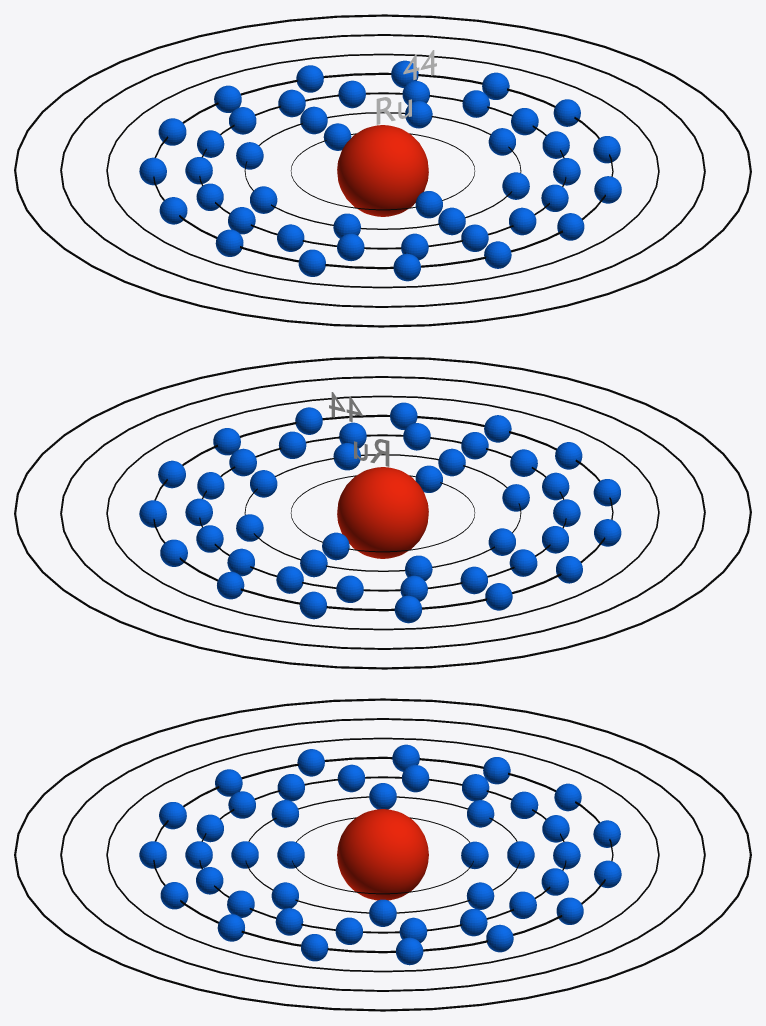
3 views of the same model, one above another, from view 1: azimuth 30°, elevation 25°; view 2: azimuth 150°, elevation 25°; view 3: azimuth 270°, elevation 25° (orthographic).
Parts seen in each view (by area): view 1: Ru3, Ru4, Proton, n7, Ru2, n6, n5, n4, Ru1, n3, n2; view 2: Ru3, Ru4, Proton, n7, Ru2, n6, n5, n4, Ru1, n3, n2; view 3: Ru3, Ru4, Proton, Ru2, n7, n6, n5, n4, Ru1, n3, n2, n1.
Boxes of the visible parts, x1,y1,x2,y2 form: Ru3: (185, 80, 580, 261); Ru4: (139, 60, 621, 281); Proton: (337, 125, 428, 216); n7: (14, 14, 751, 327); Ru2: (236, 101, 529, 238); n6: (60, 34, 705, 307); n5: (106, 53, 659, 288); n4: (153, 72, 613, 269); Ru1: (323, 123, 442, 218); n3: (199, 92, 566, 249); n2: (244, 112, 521, 229); Ru3: (185, 422, 580, 602); Ru4: (139, 402, 621, 623); Proton: (337, 467, 428, 558); n7: (14, 356, 751, 669); Ru2: (236, 443, 529, 580); n6: (60, 376, 705, 649); n5: (106, 395, 659, 630); n4: (153, 414, 613, 611); Ru1: (322, 465, 442, 560); n3: (199, 434, 566, 591); n2: (244, 454, 521, 571); Ru3: (185, 764, 580, 944); Ru4: (139, 744, 621, 965); Proton: (337, 809, 428, 900); Ru2: (231, 783, 534, 926); n7: (14, 698, 751, 1011); n6: (60, 718, 705, 991); n5: (106, 737, 659, 972); n4: (153, 756, 613, 953); Ru1: (277, 841, 488, 869); n3: (199, 776, 566, 933); n2: (245, 796, 520, 913); n1: (292, 817, 473, 894).
Size of the model in its own units: 802 by 180 by 802.
